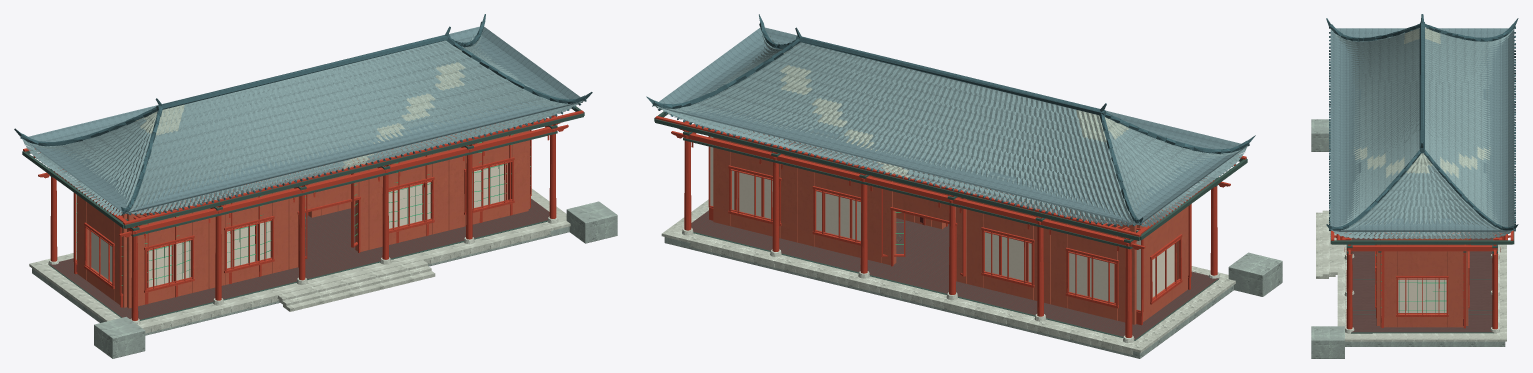
File: reference-public_models_places-low_daguanyuan_gate.glb
3 views of the same model, side by side, from view 1: azimuth 30°, elevation 25°; view 2: azimuth 150°, elevation 25°; view 3: azimuth 270°, elevation 25° (orthographic). The views are drawn at different scales.
Parts seen in each view (by area): view 1: r15_daguanyuan_gate_Sunwen_r18_ceremonial_tile.001, r15_daguanyuan_gate_Sunwen_r18_vermillion-wall_plaster.001, r15_daguanyuan_gate_Sunwen_r18_ceremonial_wood.001, r15_daguanyuan_gate_Sunwen_r18_ceremonial_roof.001, r15_daguanyuan_gate_Sunwen_r18_ceremonial_cutstone.001, Mobile_daguanyuan_gate_floorwood, r15_daguanyuan_gate_Sunwen_r18_ceremonial_screen.002, r15_daguanyuan_gate_Sunwen_r18_ceremonial_darkwood.001, r15_daguanyuan_gate_Sunwen_r18_ceremonial_tiledark.001, r15_daguanyuan_gate_Sunwen_r18_ceremonial_stone.001, r15_daguanyuan_gate_Sunwen_r18_ceremonial_tilelight.001, r15_daguanyuan_gate_Sunwen_r18_ceremonial_latticewood.001; view 2: r15_daguanyuan_gate_Sunwen_r18_ceremonial_tile.001, r15_daguanyuan_gate_Sunwen_r18_vermillion-wall_plaster.001, r15_daguanyuan_gate_Sunwen_r18_ceremonial_wood.001, r15_daguanyuan_gate_Sunwen_r18_ceremonial_roof.001, Mobile_daguanyuan_gate_floorwood, r15_daguanyuan_gate_Sunwen_r18_ceremonial_cutstone.001, r15_daguanyuan_gate_Sunwen_r18_ceremonial_screen.001, r15_daguanyuan_gate_Sunwen_r18_ceremonial_darkwood.001, r15_daguanyuan_gate_Sunwen_r18_ceremonial_tiledark.001, r15_daguanyuan_gate_Sunwen_r18_ceremonial_stone.001, r15_daguanyuan_gate_Sunwen_r18_ceremonial_tilelight.001, r15_daguanyuan_gate_Sunwen_r18_ceremonial_screen.002; view 3: r15_daguanyuan_gate_Sunwen_r18_ceremonial_tile.001, r15_daguanyuan_gate_Sunwen_r18_ceremonial_roof.001, r15_daguanyuan_gate_Sunwen_r18_vermillion-wall_plaster.001, Mobile_daguanyuan_gate_floorwood, r15_daguanyuan_gate_Sunwen_r18_ceremonial_cutstone.001, r15_daguanyuan_gate_Sunwen_r18_ceremonial_wood.001, r15_daguanyuan_gate_Sunwen_r18_ceremonial_tiledark.001, r15_daguanyuan_gate_Sunwen_r18_ceremonial_stone.001, r15_daguanyuan_gate_Sunwen_r18_ceremonial_tilelight.001, r15_daguanyuan_gate_Sunwen_r18_ceremonial_screen.002, r15_daguanyuan_gate_Sunwen_r18_ceremonial_darkwood.001, r15_daguanyuan_gate_Sunwen_r18_ceremonial_latticewood.001.
Part boxes in pixels (x1=…): r15_daguanyuan_gate_Sunwen_r18_ceremonial_tile.001: x1=22, y1=34, x2=584, y2=215; r15_daguanyuan_gate_Sunwen_r18_vermillion-wall_plaster.001: x1=76, y1=123, x2=529, y2=308; r15_daguanyuan_gate_Sunwen_r18_ceremonial_wood.001: x1=23, y1=110, x2=583, y2=320; r15_daguanyuan_gate_Sunwen_r18_ceremonial_roof.001: x1=22, y1=26, x2=582, y2=213; r15_daguanyuan_gate_Sunwen_r18_ceremonial_cutstone.001: x1=29, y1=188, x2=570, y2=333; Mobile_daguanyuan_gate_floorwood: x1=49, y1=198, x2=549, y2=319; r15_daguanyuan_gate_Sunwen_r18_ceremonial_screen.002: x1=91, y1=163, x2=507, y2=287; r15_daguanyuan_gate_Sunwen_r18_ceremonial_darkwood.001: x1=22, y1=106, x2=584, y2=320; r15_daguanyuan_gate_Sunwen_r18_ceremonial_tiledark.001: x1=14, y1=14, x2=592, y2=215; r15_daguanyuan_gate_Sunwen_r18_ceremonial_stone.001: x1=32, y1=201, x2=617, y2=358; r15_daguanyuan_gate_Sunwen_r18_ceremonial_tilelight.001: x1=135, y1=48, x2=472, y2=168; r15_daguanyuan_gate_Sunwen_r18_ceremonial_latticewood.001: x1=76, y1=134, x2=530, y2=285; r15_daguanyuan_gate_Sunwen_r18_ceremonial_tile.001: x1=654, y1=32, x2=1247, y2=227; r15_daguanyuan_gate_Sunwen_r18_vermillion-wall_plaster.001: x1=713, y1=129, x2=1188, y2=324; r15_daguanyuan_gate_Sunwen_r18_ceremonial_wood.001: x1=655, y1=116, x2=1246, y2=337; r15_daguanyuan_gate_Sunwen_r18_ceremonial_roof.001: x1=654, y1=27, x2=1247, y2=224; Mobile_daguanyuan_gate_floorwood: x1=691, y1=210, x2=1218, y2=339; r15_daguanyuan_gate_Sunwen_r18_ceremonial_cutstone.001: x1=661, y1=199, x2=1235, y2=354; r15_daguanyuan_gate_Sunwen_r18_ceremonial_screen.001: x1=710, y1=136, x2=1140, y2=310; r15_daguanyuan_gate_Sunwen_r18_ceremonial_darkwood.001: x1=654, y1=111, x2=1247, y2=340; r15_daguanyuan_gate_Sunwen_r18_ceremonial_tiledark.001: x1=646, y1=14, x2=1255, y2=226; r15_daguanyuan_gate_Sunwen_r18_ceremonial_stone.001: x1=664, y1=237, x2=1282, y2=358; r15_daguanyuan_gate_Sunwen_r18_ceremonial_tilelight.001: x1=779, y1=45, x2=1128, y2=177; r15_daguanyuan_gate_Sunwen_r18_ceremonial_screen.002: x1=1152, y1=244, x2=1174, y2=297; r15_daguanyuan_gate_Sunwen_r18_ceremonial_tile.001: x1=1330, y1=29, x2=1514, y2=239; r15_daguanyuan_gate_Sunwen_r18_ceremonial_roof.001: x1=1330, y1=28, x2=1514, y2=231; r15_daguanyuan_gate_Sunwen_r18_vermillion-wall_plaster.001: x1=1376, y1=232, x2=1468, y2=327; Mobile_daguanyuan_gate_floorwood: x1=1351, y1=232, x2=1493, y2=332; r15_daguanyuan_gate_Sunwen_r18_ceremonial_cutstone.001: x1=1316, y1=208, x2=1506, y2=341; r15_daguanyuan_gate_Sunwen_r18_ceremonial_wood.001: x1=1331, y1=230, x2=1513, y2=329; r15_daguanyuan_gate_Sunwen_r18_ceremonial_tiledark.001: x1=1326, y1=14, x2=1518, y2=231; r15_daguanyuan_gate_Sunwen_r18_ceremonial_stone.001: x1=1311, y1=119, x2=1505, y2=358; r15_daguanyuan_gate_Sunwen_r18_ceremonial_tilelight.001: x1=1353, y1=28, x2=1490, y2=178; r15_daguanyuan_gate_Sunwen_r18_ceremonial_screen.002: x1=1398, y1=278, x2=1446, y2=312; r15_daguanyuan_gate_Sunwen_r18_ceremonial_darkwood.001: x1=1330, y1=231, x2=1514, y2=333; r15_daguanyuan_gate_Sunwen_r18_ceremonial_latticewood.001: x1=1376, y1=254, x2=1463, y2=312.
Bounding box in the file's own units: 27.81 × 9.98 × 11.01.
Materials: 16 (16 with a texture image).
